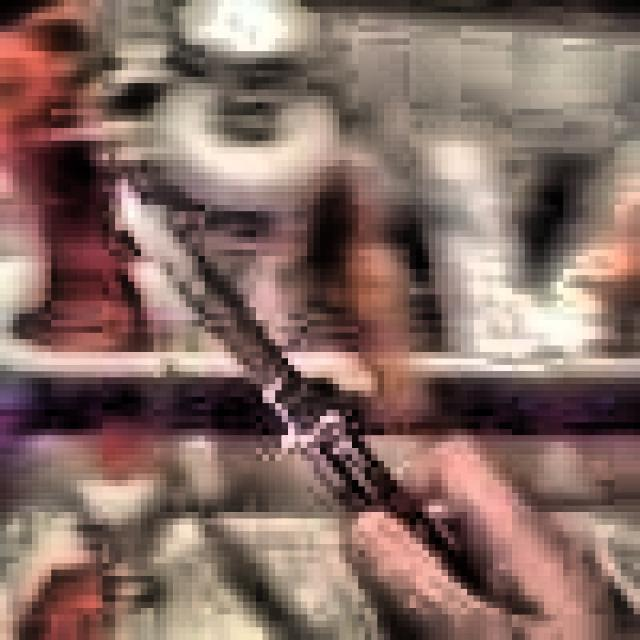knife: (120, 186, 482, 588)
